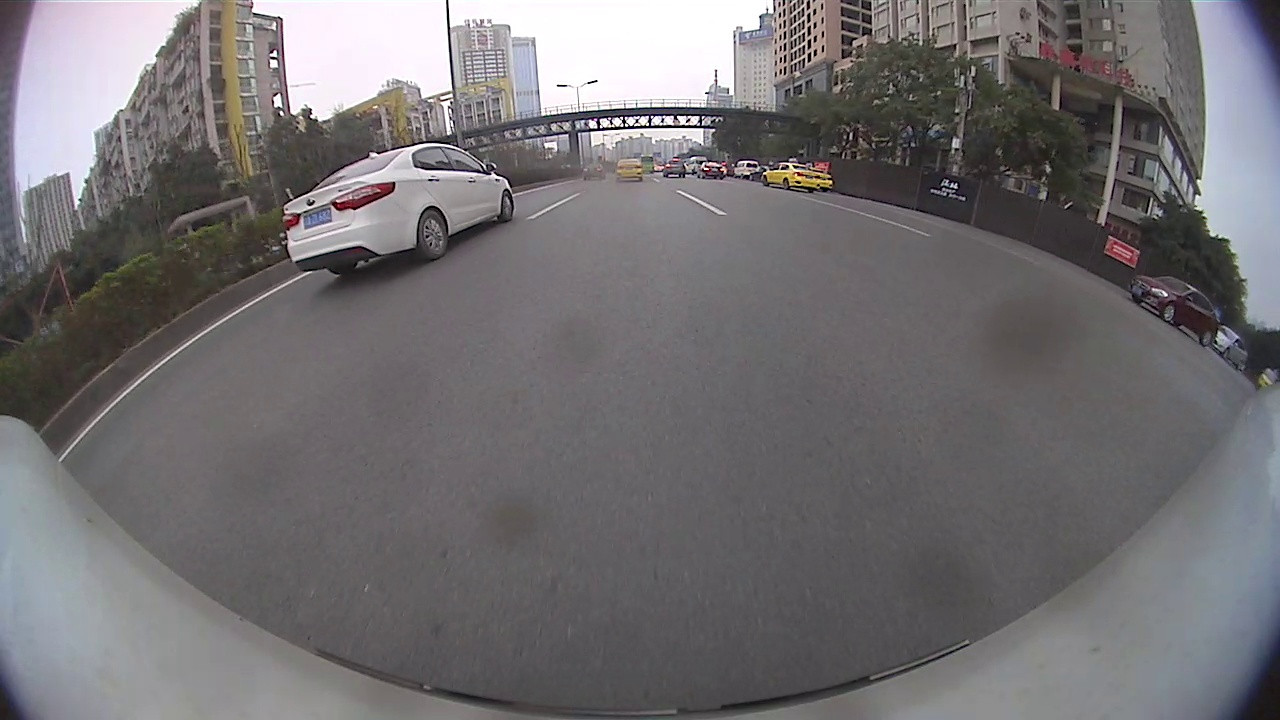car: (284, 141, 515, 274), (1132, 276, 1217, 345), (760, 161, 818, 190), (1212, 325, 1247, 369), (617, 159, 644, 180), (697, 163, 726, 181), (662, 160, 687, 177)
front: (498, 194, 517, 223), (1161, 302, 1176, 324)
rear: (418, 212, 453, 261), (1201, 328, 1216, 347)
